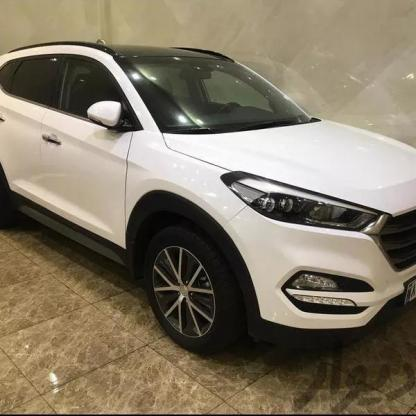Car: (0, 23, 416, 362)
